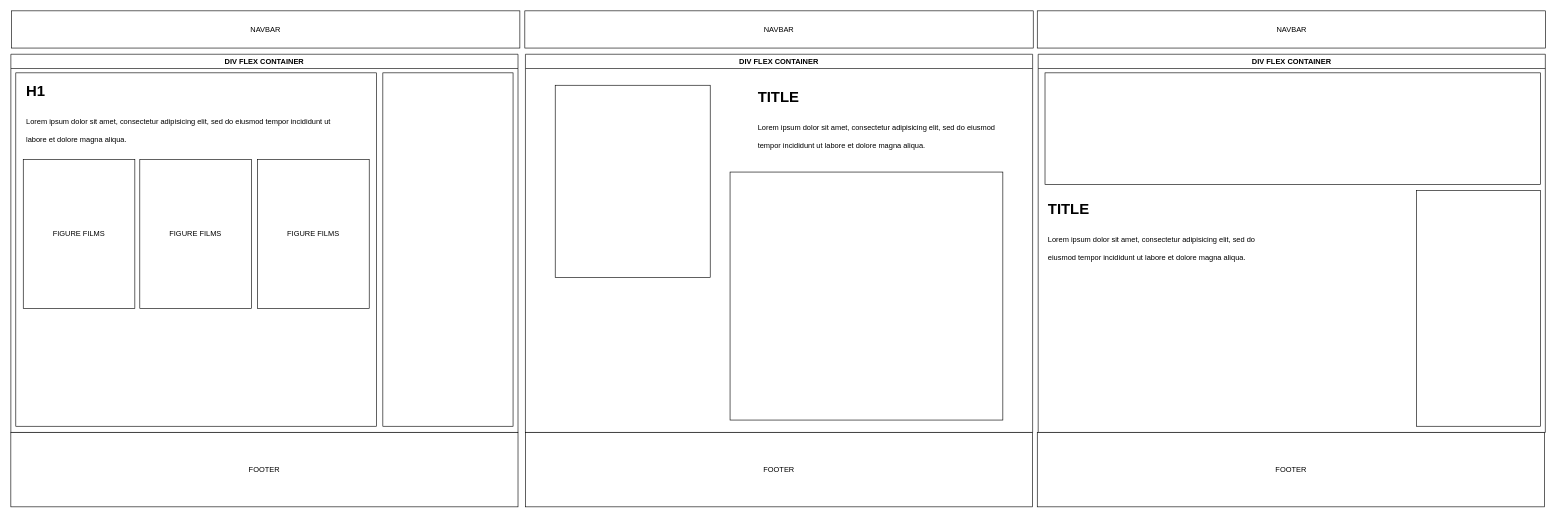
Image size: 1557x518. Some labels were removed from this diagram. The shapes that lost their labels are listed below. From the top down, each one's centre as x and y in pixels, then its label:
the point at 1292,128: FIGURE (BANIERE FILM)
the point at 632,181: FIGURE (image de la personne)
the point at 447,249: ASIDE
the point at 866,295: SECTION (FILMOGRAPHIE)
the point at 1478,308: LISTS ACTORS
